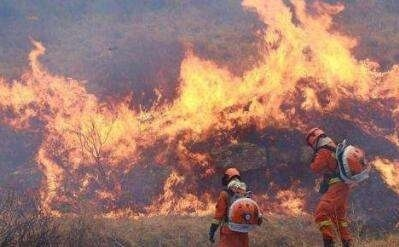fire: (21, 6, 399, 227)
